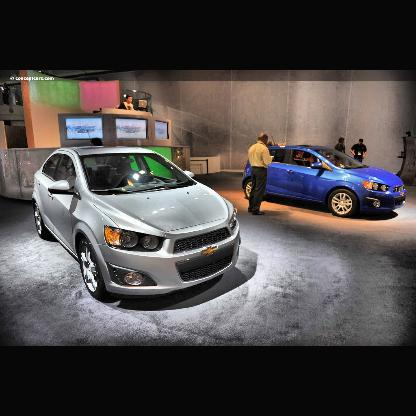Chevrolet Sonic Sedan 2012: (32, 145, 243, 301)
